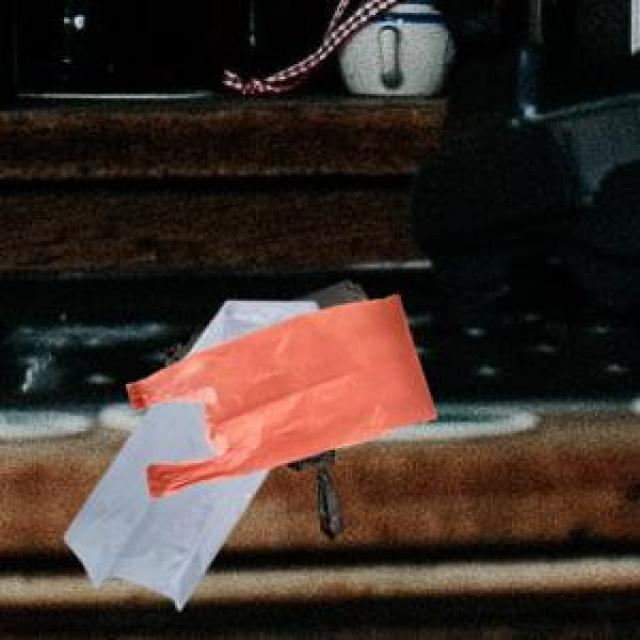miscellaneous trash: (60, 297, 314, 606), (162, 277, 363, 538)
